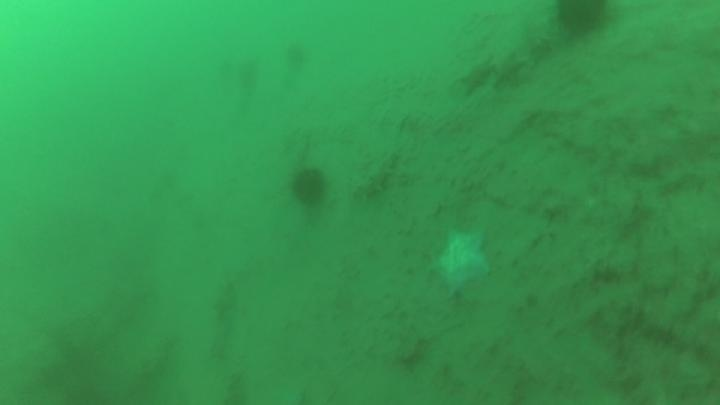echinus: (551, 1, 615, 41), (287, 164, 331, 211), (281, 39, 311, 72), (235, 58, 265, 91)
holothurian: (350, 147, 402, 203)
scallop: (429, 225, 493, 300)
starfish: (454, 56, 499, 100)
